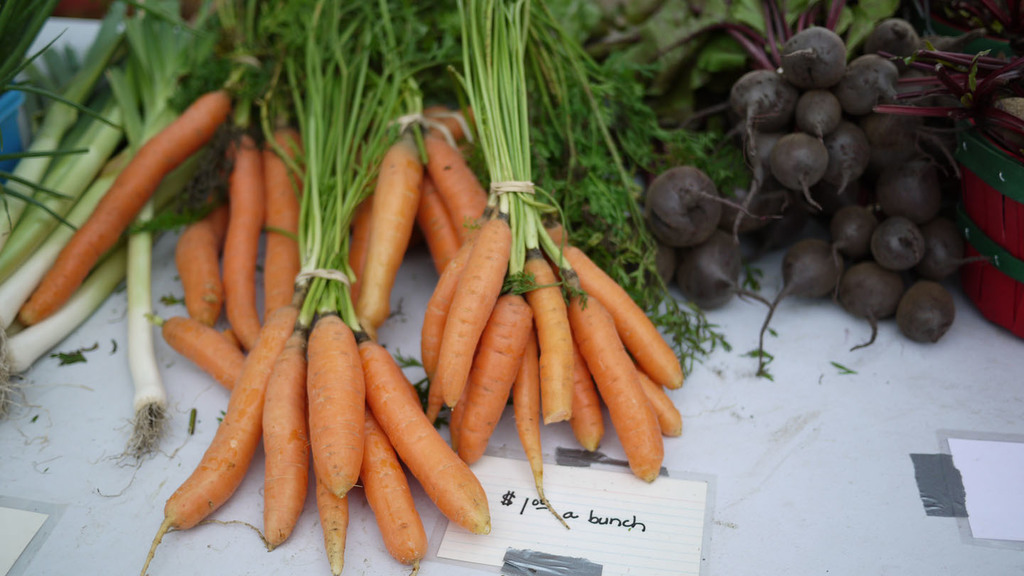Carrot: (144, 0, 487, 575), (423, 0, 683, 535), (10, 81, 231, 329)
